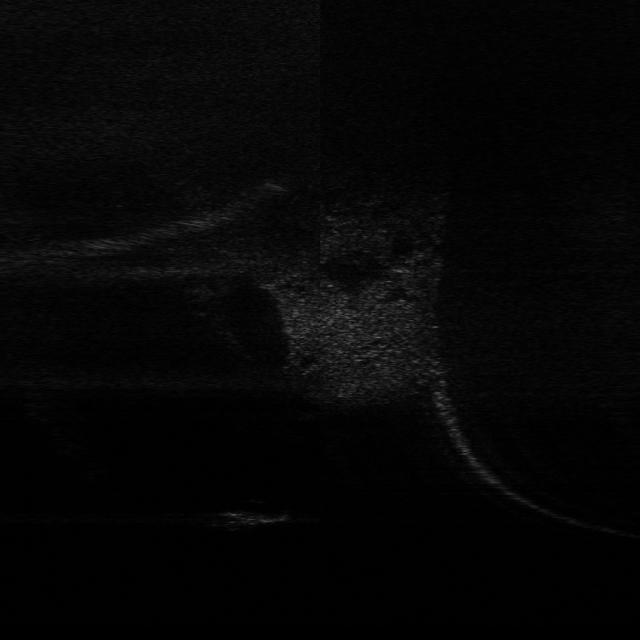cube: (212, 497, 296, 530)
